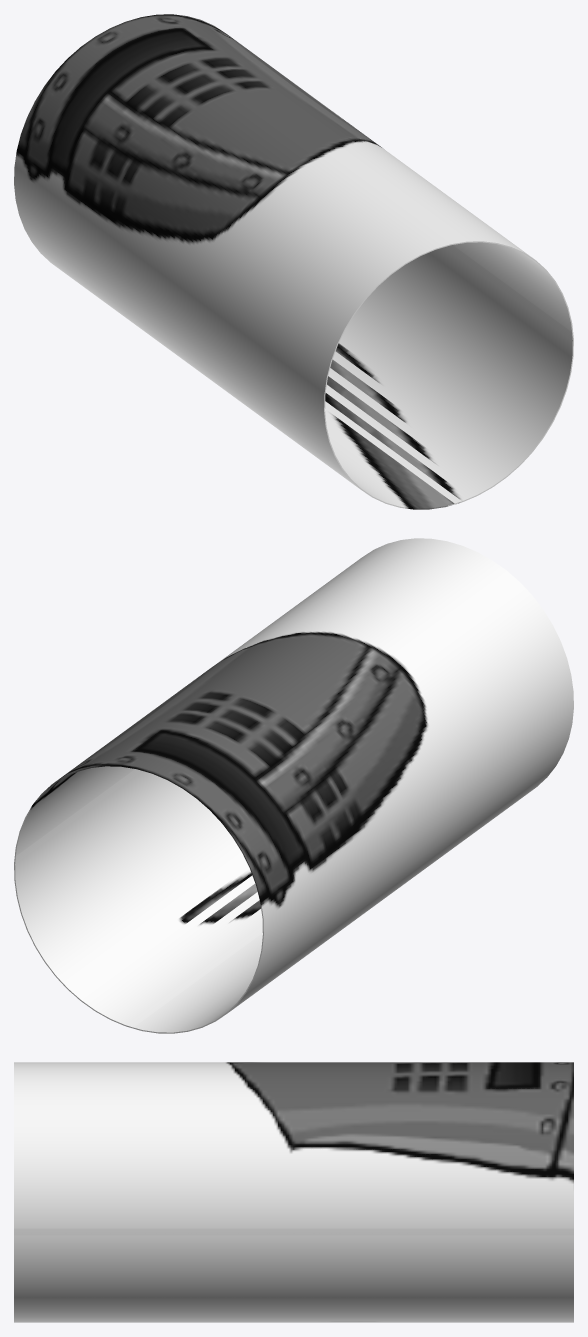
File: Level 76 roll flag for moon landing.fbx
3 renders of one model, top to bottom at view 1: azimuth 30°, elevation 25°; view 2: azimuth 150°, elevation 25°; view 3: azimuth 270°, elevation 25°, orthographic. The views are drawn at different scales.
Visible parts, largest first — view 1: Blend; view 2: Blend; view 3: Blend.
Part boxes in pixels (x1,y1,x2,y2): Blend: (14,14,573,509); Blend: (14,538,573,1033); Blend: (14,1062,573,1322).
Size of what is drawn, in the model's own units: 241 by 241 by 517.
